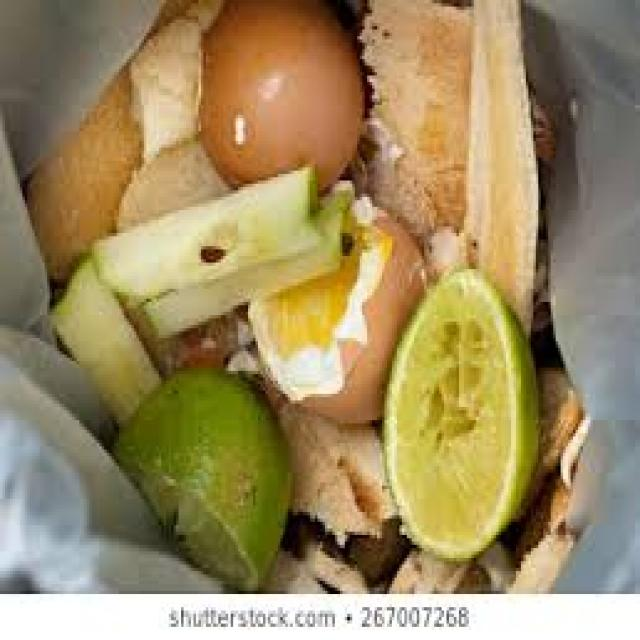food_waste: (147, 63, 522, 536)
